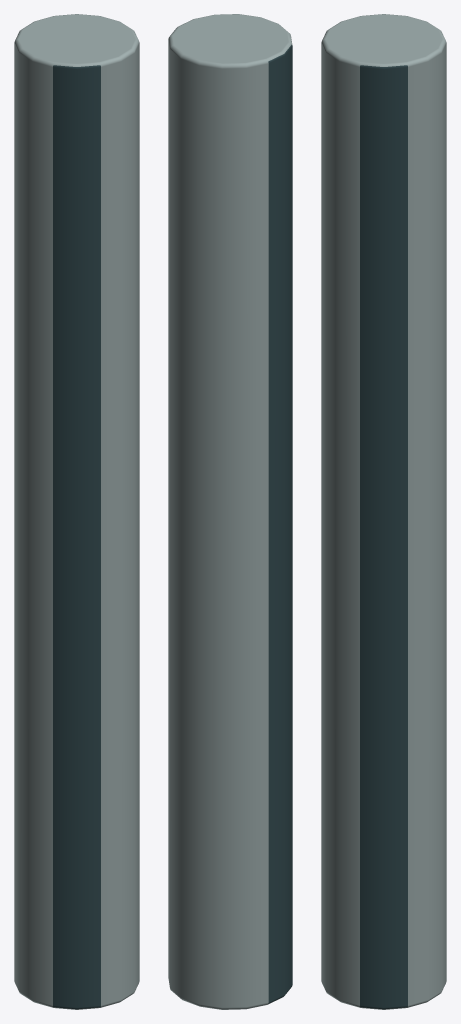
The model's file is hammer-handle-round-03.glb.
3 renders of one model, left to right at view 1: azimuth 90°, elevation 25°; view 2: azimuth 150°, elevation 25°; view 3: azimuth 270°, elevation 25°, orthographic.
Visible parts, largest first — view 1: HammerHandle; view 2: HammerHandle; view 3: HammerHandle.
Boxes of the visible parts, x1,y1,x2,y2 form: HammerHandle: [14, 14, 139, 1009]; HammerHandle: [168, 14, 292, 1009]; HammerHandle: [321, 14, 446, 1009].
Size of the model in its own units: 0.12 by 1 by 0.12.
